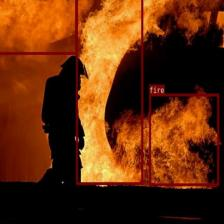fire: (75, 0, 143, 184), (148, 93, 218, 186), (0, 0, 77, 54)
